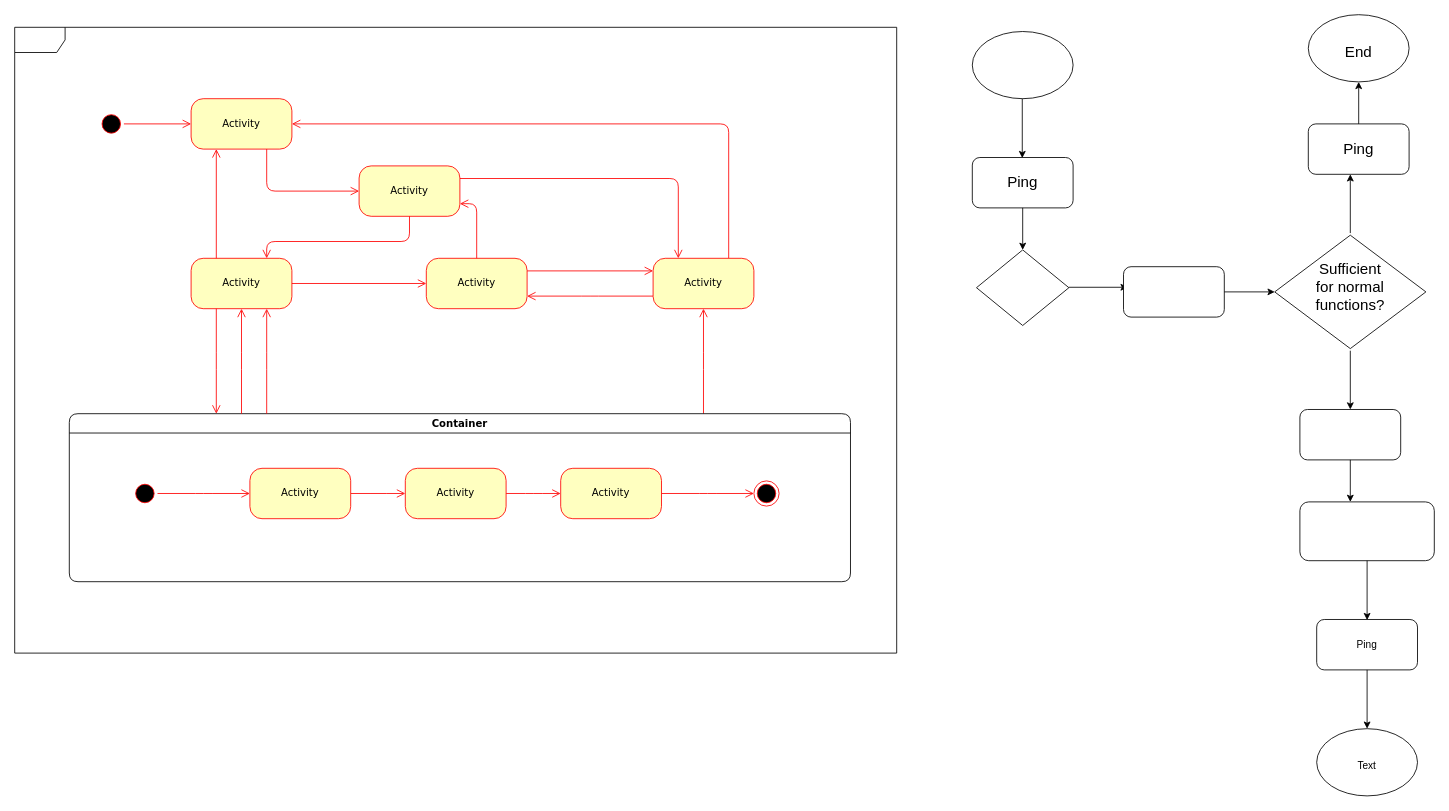
The diagram is 1449 pixels wide and 811 high, and some of its shapes have lost their labels. Each missing label, with the centre of its shape:
Check Battery: the point at 1173,291
Check for reas o n: the point at 1350,434
frame: the point at 455,339
Response?: the point at 1022,287
Start: the point at 1022,65
Try diff parameters/ charge battery from alternate power sources: the point at 1366,531
